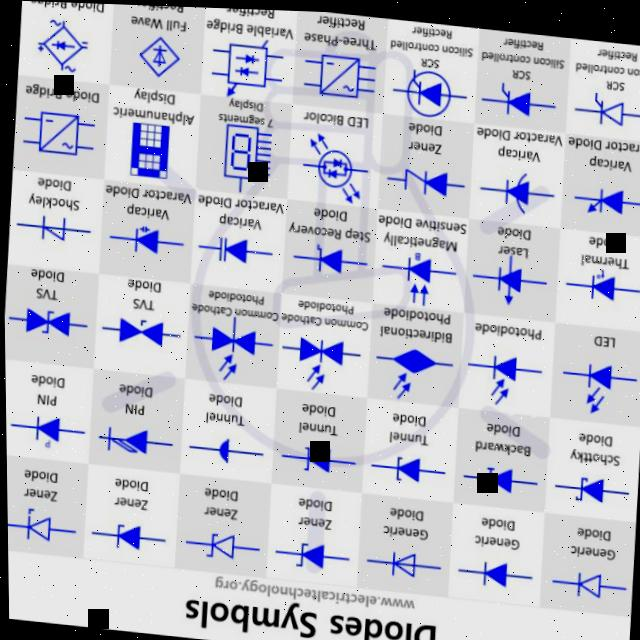diode: (99, 284, 177, 376), (376, 329, 448, 405), (195, 313, 264, 384), (569, 340, 632, 416), (18, 294, 83, 365), (285, 319, 347, 392), (385, 232, 446, 306), (400, 60, 468, 120), (477, 337, 534, 408), (567, 256, 637, 311), (394, 155, 463, 205), (206, 222, 263, 281), (481, 246, 540, 303), (305, 227, 355, 294), (25, 201, 83, 254), (100, 415, 161, 465), (580, 174, 640, 224), (579, 78, 640, 126), (376, 534, 431, 587), (378, 438, 437, 486), (496, 156, 544, 215), (493, 68, 545, 122), (118, 217, 176, 265), (563, 461, 619, 510), (286, 527, 339, 578), (563, 558, 613, 609), (188, 516, 242, 562), (102, 512, 154, 559), (469, 543, 515, 596), (290, 438, 345, 481), (8, 506, 58, 548), (479, 456, 525, 500), (208, 429, 250, 472), (30, 407, 70, 452), (148, 44, 168, 67), (50, 38, 70, 52), (236, 62, 251, 79), (240, 50, 255, 64), (323, 165, 339, 178), (328, 154, 343, 167)
